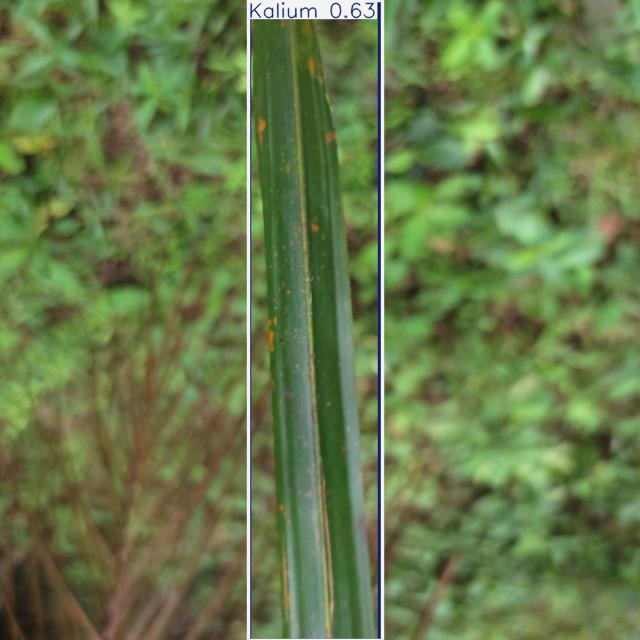Kalium: (248, 0, 382, 640)
nitrogen: (250, 0, 379, 640)
